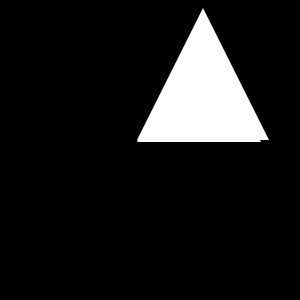triangle: (137, 8, 269, 140), (137, 18, 261, 142)
